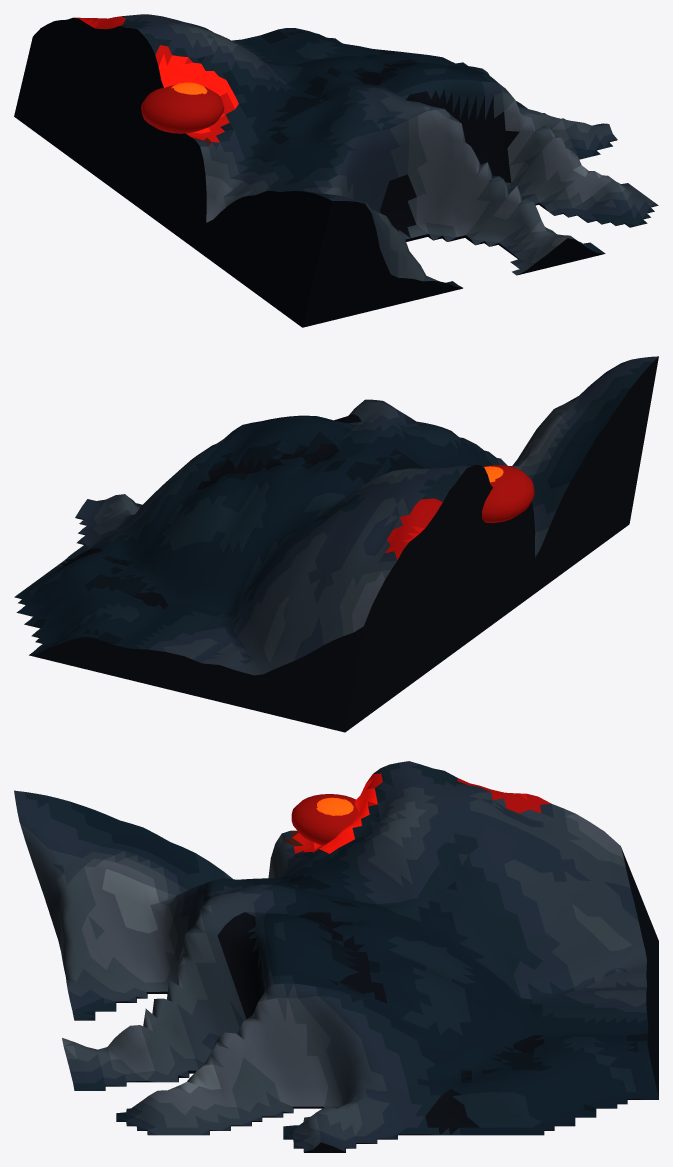
The model's file is gyges_maw_123.glb.
3 renders of one model, top to bottom at view 1: azimuth 30°, elevation 25°; view 2: azimuth 150°, elevation 25°; view 3: azimuth 270°, elevation 25°, orthographic. The views are drawn at different scales.
Parts seen in each view (by area): view 1: gyges_maw_123; view 2: gyges_maw_123; view 3: gyges_maw_123.
Part boxes in pixels (left/top/right/bottom): gyges_maw_123: left=14, top=14, right=658, bottom=327; gyges_maw_123: left=14, top=356, right=658, bottom=732; gyges_maw_123: left=14, top=761, right=658, bottom=1152.
Bounding box in the file's own units: 25.5 × 9.52 × 30.9.
